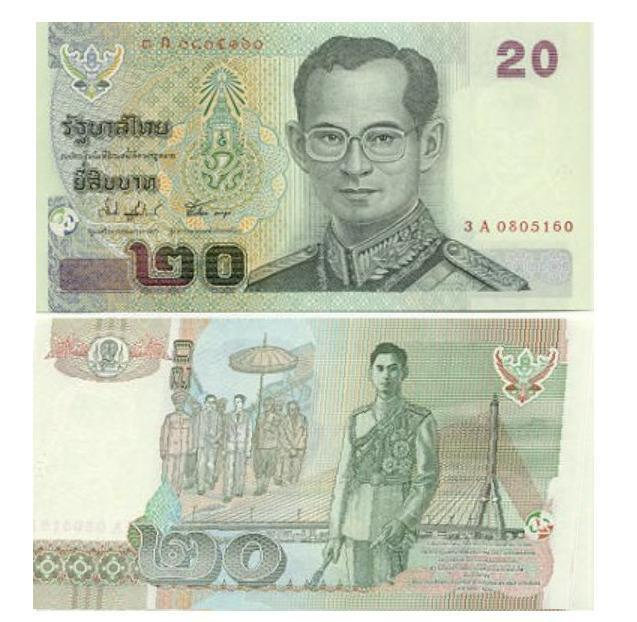20BahtTai: (33, 319, 595, 609)
